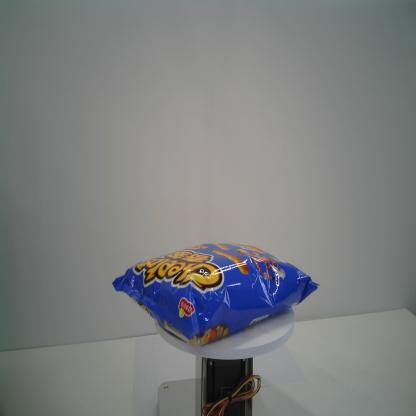Puffed Food: (111, 241, 321, 348)
